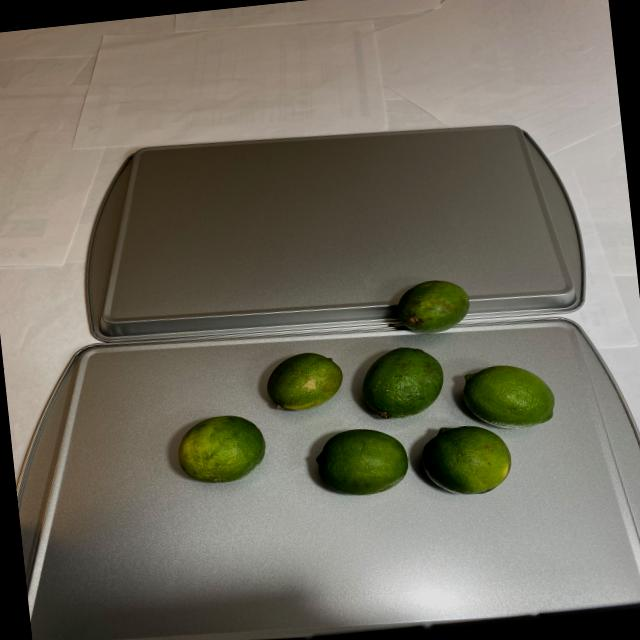lemon: (160, 268, 564, 524)
